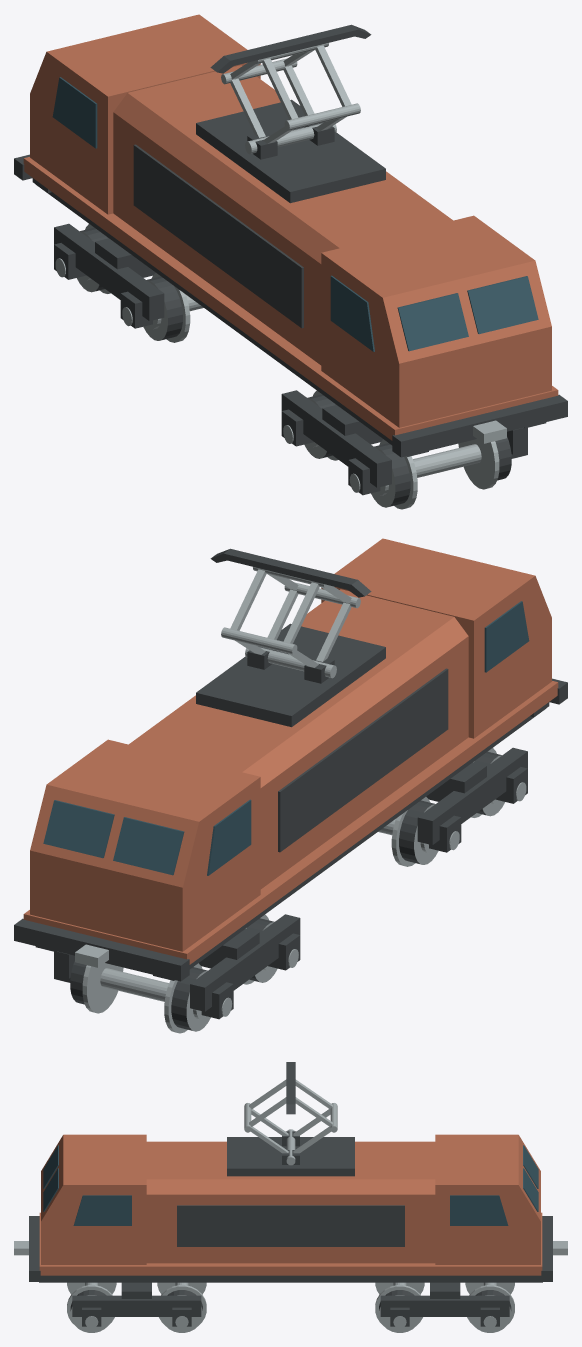
3 renders of one model, top to bottom at view 1: azimuth 30°, elevation 25°; view 2: azimuth 150°, elevation 25°; view 3: azimuth 270°, elevation 25°, orthographic. The views are drawn at different scales.
Parts seen in each view (by area): view 1: WholeSlopingEndCabFront, WholeCentralEquipmentBody, WholeSlopingEndCabRear, WholeLongSideEquipmentPanelLeft, WholeLongBodyFloor, WholeRoofCollectorBase, WholeIndependentBogieFrame0, WholeIndependentBogieFrame1, WholeEndBufferBeamFront, WholeOpaqueSlantedWindscreenFrontLeft, WholeOpaqueSlantedWindscreenFrontRight, WholeRaisedCollectorBow (+15 smaller); view 2: WholeSlopingEndCabRear, WholeCentralEquipmentBody, WholeSlopingEndCabFront, WholeLongSideEquipmentPanelLeft, WholeLongBodyFloor, WholeRoofCollectorBase, WholeIndependentBogieFrame1, WholeIndependentBogieFrame0, WholeEndBufferBeamRear, WholeOpaqueSlantedWindscreenRearLeft, WholeOpaqueSlantedWindscreenRearRight, WholeRaisedCollectorBow (+15 smaller); view 3: WholeCentralEquipmentBody, WholeSlopingEndCabFront, WholeSlopingEndCabRear, WholeLongSideEquipmentPanelRight, WholeLongBodyFloor, WholeRoofCollectorBase, WholeLongBridgeUnderframe, WholeIndependentBogieFrame0, WholeIndependentBogieFrame1, WholeOpaqueCabSideWindowFrontRight, WholeOpaqueCabSideWindowRearRight, WholeRailFlangeWheel01Right (+10 smaller).
Boxes of the visible parts, bbox=[...] form: WholeSlopingEndCabFront: bbox=[321, 215, 551, 427]; WholeCentralEquipmentBody: bbox=[113, 65, 452, 365]; WholeSlopingEndCabRear: bbox=[30, 14, 260, 214]; WholeLongSideEquipmentPanelLeft: bbox=[133, 144, 303, 328]; WholeLongBodyFloor: bbox=[23, 157, 558, 440]; WholeRoofCollectorBase: bbox=[196, 99, 385, 203]; WholeIndependentBogieFrame0: bbox=[281, 390, 527, 487]; WholeIndependentBogieFrame1: bbox=[54, 223, 164, 321]; WholeEndBufferBeamFront: bbox=[392, 394, 567, 457]; WholeOpaqueSlantedWindscreenFrontLeft: bbox=[397, 293, 468, 351]; WholeOpaqueSlantedWindscreenFrontRight: bbox=[467, 276, 538, 334]; WholeRaisedCollectorBow: bbox=[210, 24, 371, 73]; WholeSlopingEndCabRear: bbox=[30, 739, 260, 951]; WholeCentralEquipmentBody: bbox=[129, 589, 468, 889]; WholeSlopingEndCabFront: bbox=[321, 538, 551, 738]; WholeLongSideEquipmentPanelLeft: bbox=[278, 668, 448, 852]; WholeLongBodyFloor: bbox=[23, 681, 558, 964]; WholeRoofCollectorBase: bbox=[196, 623, 385, 727]; WholeIndependentBogieFrame1: bbox=[54, 914, 300, 1011]; WholeIndependentBogieFrame0: bbox=[417, 747, 527, 845]; WholeEndBufferBeamRear: bbox=[14, 918, 189, 981]; WholeOpaqueSlantedWindscreenRearLeft: bbox=[113, 817, 184, 875]; WholeOpaqueSlantedWindscreenRearRight: bbox=[43, 800, 114, 858]; WholeRaisedCollectorBow: bbox=[210, 548, 371, 597]; WholeCentralEquipmentBody: bbox=[146, 1141, 435, 1263]; WholeSlopingEndCabFront: bbox=[41, 1134, 146, 1264]; WholeSlopingEndCabRear: bbox=[435, 1134, 540, 1264]; WholeLongSideEquipmentPanelRight: bbox=[177, 1205, 404, 1246]; WholeLongBodyFloor: bbox=[39, 1212, 542, 1275]; WholeRoofCollectorBase: bbox=[227, 1137, 354, 1176]; WholeLongBridgeUnderframe: bbox=[39, 1275, 542, 1282]; WholeIndependentBogieFrame0: bbox=[72, 1282, 201, 1316]; WholeIndependentBogieFrame1: bbox=[380, 1282, 509, 1316]; WholeOpaqueCabSideWindowFrontRight: bbox=[73, 1195, 131, 1225]; WholeOpaqueCabSideWindowRearRight: bbox=[450, 1195, 508, 1225]; WholeRailFlangeWheel01Right: bbox=[159, 1285, 206, 1332].
Bounding box in the file's own units: 1.88 × 3.72 × 7.98.
